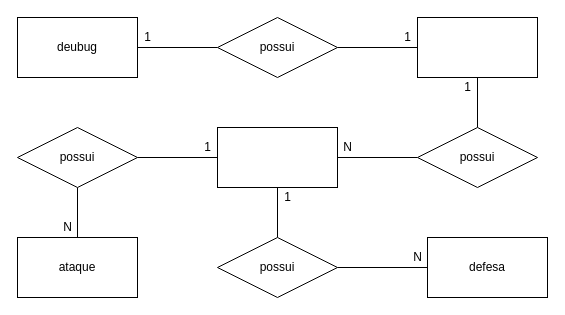
The diagram is 565 pixels wide and 315 high, and some of its shapes have lost their labels. The box of each missing label's shape, as (x1, y1, x2, y2) in pixels:
classe: (416, 16, 538, 78)
Habilidades: (216, 126, 338, 188)
